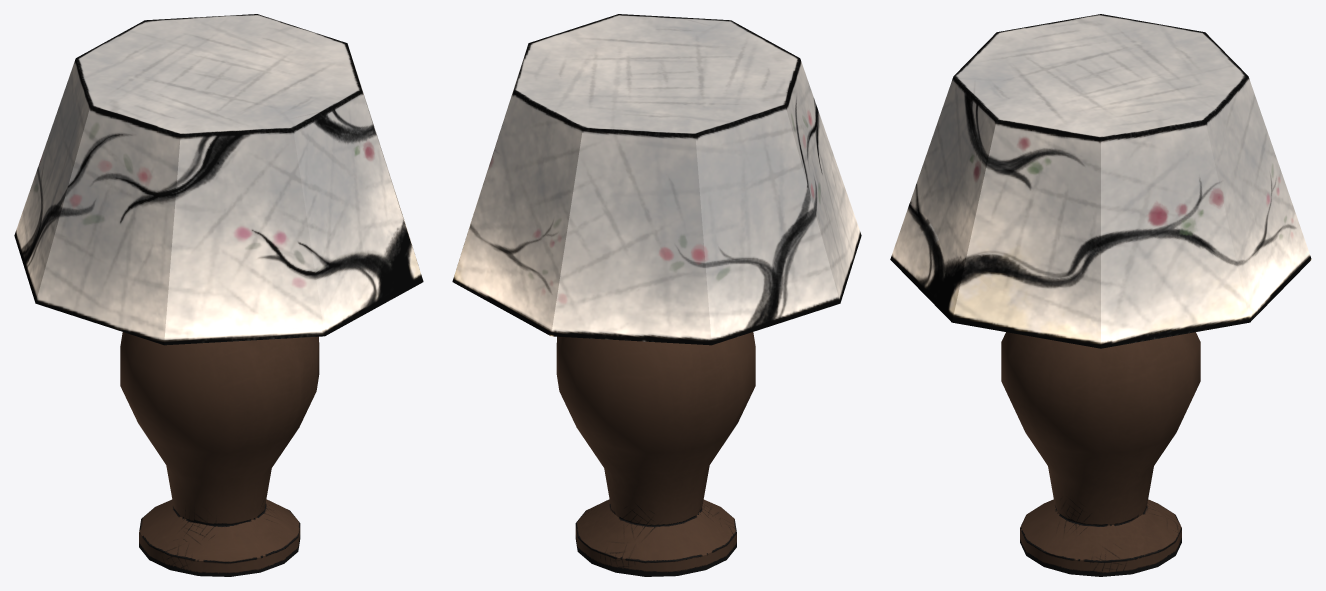
Rendered from Lamp (1).glb.
3 renders of one model, left to right at view 1: azimuth 30°, elevation 25°; view 2: azimuth 150°, elevation 25°; view 3: azimuth 270°, elevation 25°, orthographic.
Parts seen in each view (by area): view 1: Lamp.001; view 2: Lamp.001; view 3: Lamp.001.
Part boxes in pixels (bbox=[...]): Lamp.001: bbox=[14, 14, 423, 576]; Lamp.001: bbox=[452, 14, 861, 576]; Lamp.001: bbox=[890, 14, 1311, 576].
Size of the model in its own units: 0.3104 by 0.3787 by 0.3104.
3 materials, 2 textured.
